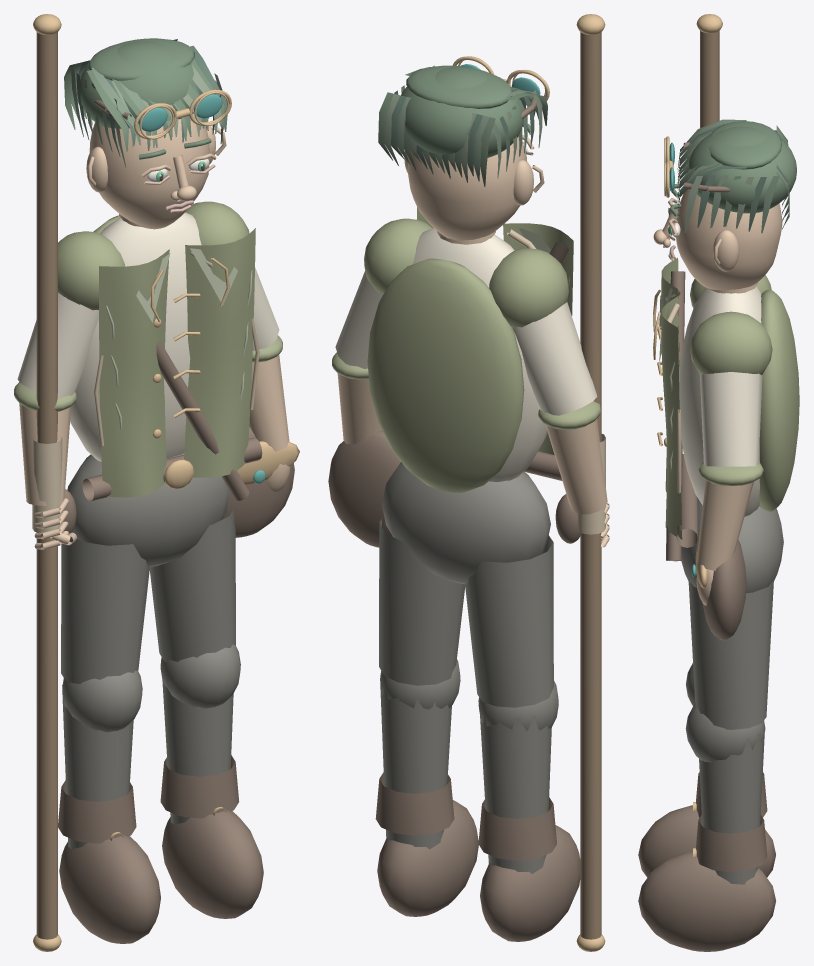
Rendered from Ender_ender_fidelity_v2.glb.
3 renders of one model, left to right at view 1: azimuth 30°, elevation 25°; view 2: azimuth 150°, elevation 25°; view 3: azimuth 270°, elevation 25°, orthographic. The views are drawn at different scales.
Parts seen in each view (by area): view 1: Ender_lookdev; view 2: Ender_lookdev; view 3: Ender_lookdev.
Part boxes in pixels (<box>): Ender_lookdev: <box>14,14,299,951</box>; Ender_lookdev: <box>328,14,609,951</box>; Ender_lookdev: <box>638,14,799,951</box>.
Size of the model in its own units: 0.5632 by 1.86 by 0.316.
